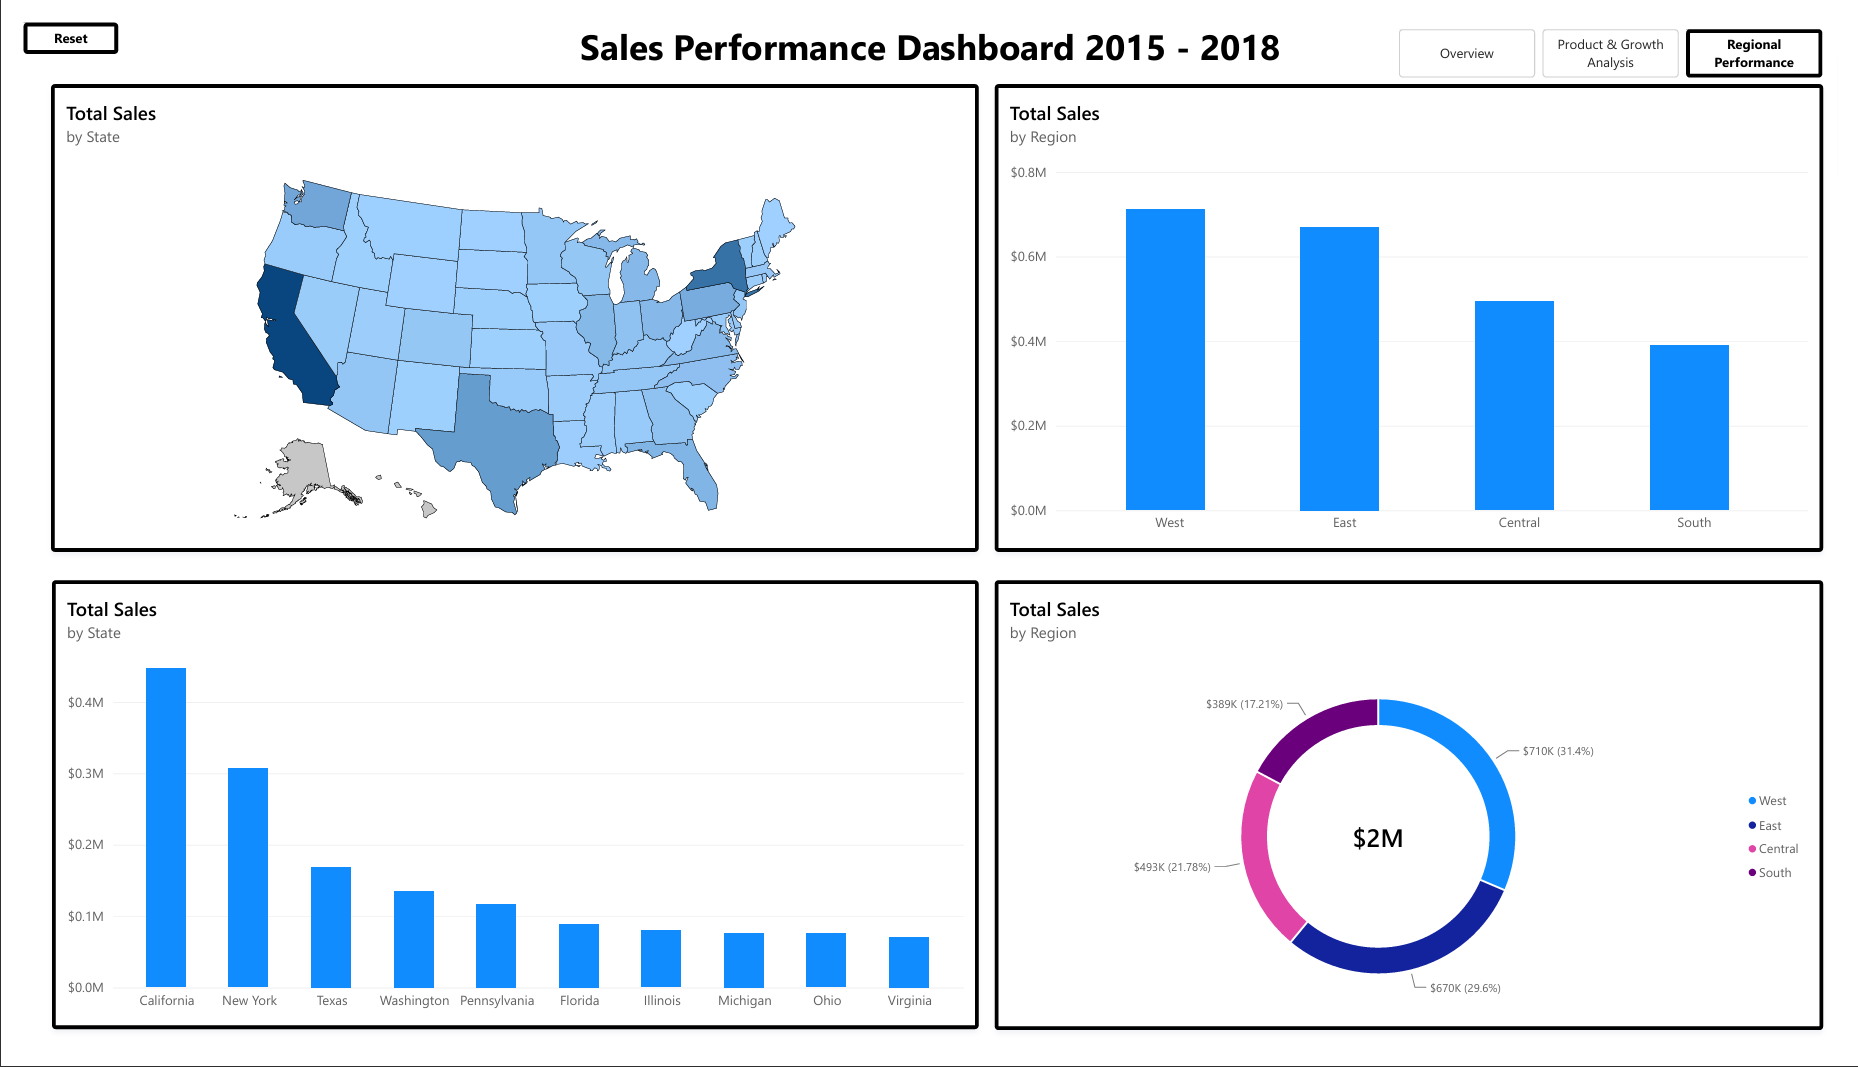

What the dashboard file says about the page in this screenshot:
{"tool":"powerbi","page":{"name":"Regional Performance ","canvas":[1920,1080],"ordinal":2},"visuals":[{"type":"shapeMap","fields":{"Category":["Orders.State"],"Value":["_Measures.Total Sales"]},"box":[29.1,65.5,981.8,494.5],"z":0},{"type":"columnChart","fields":{"Category":["Orders.Region"],"Y":["_Measures.Total Sales"]},"box":[1028.1,65.3,877,494.5],"z":1000},{"type":"textbox","box":[0,0,1920,65],"z":7000},{"type":"clusteredColumnChart","fields":{"Category":["Orders.State"],"Y":["_Measures.Total Sales"]},"box":[29.9,589.6,981.5,475.8],"z":8000},{"type":"donutChart","fields":{"Category":["Orders.Region"],"Y":["_Measures.Total Sales"]},"box":[1028,590,877,476],"z":9000},{"type":"actionButton","box":[0,0,100,32.7],"z":10000},{"type":"pageNavigator","box":[1456.4,7.3,447.3,50.9],"z":11000}]}

Visuals, with their boxes in screenshot pixels (x1, y1, x2, y2), scaled from the page's 1920x1080 canvas onto the 1858x1067 screenshot:
shapeMap - Orders.State x _Measures.Total Sales: bbox=(28, 65, 978, 553)
columnChart - Orders.Region x _Measures.Total Sales: bbox=(995, 65, 1844, 553)
textbox: bbox=(0, 0, 1857, 64)
clusteredColumnChart - Orders.State x _Measures.Total Sales: bbox=(29, 583, 979, 1053)
donutChart - Orders.Region x _Measures.Total Sales: bbox=(995, 583, 1843, 1053)
actionButton: bbox=(0, 0, 97, 32)
pageNavigator: bbox=(1409, 7, 1842, 57)
